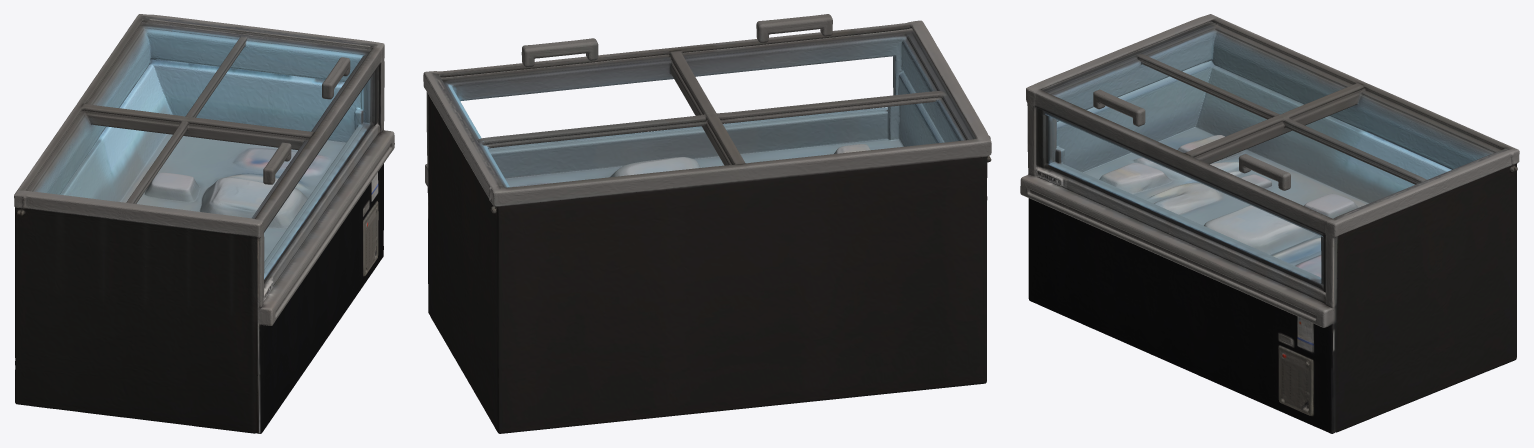
File: 1.5mTopFreezer_2.glb
3 views of the same model, side by side, from view 1: azimuth 30°, elevation 25°; view 2: azimuth 150°, elevation 25°; view 3: azimuth 270°, elevation 25° (orthographic). The views are drawn at different scales.
Size of the model in its own units: 2 by 1.01 by 1.98.
Materials: 1 (1 with a texture image).
